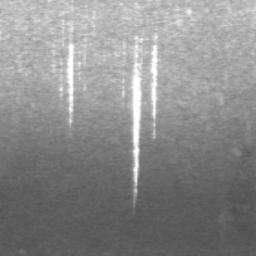Bright scratch: (134, 38, 143, 205), (151, 37, 158, 133), (68, 45, 73, 124)
